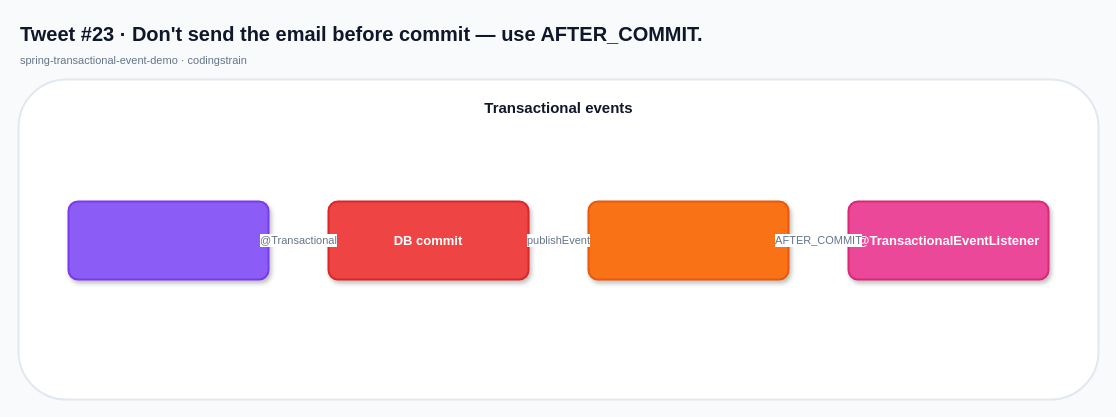
This 1116x417 diagram has some shape labels left out. Here are the shapes that lost their labels. From the top down, the centre of each, then its label:
At point (169, 241): "createOrder()".
At point (689, 241): "ApplicationEvent".
